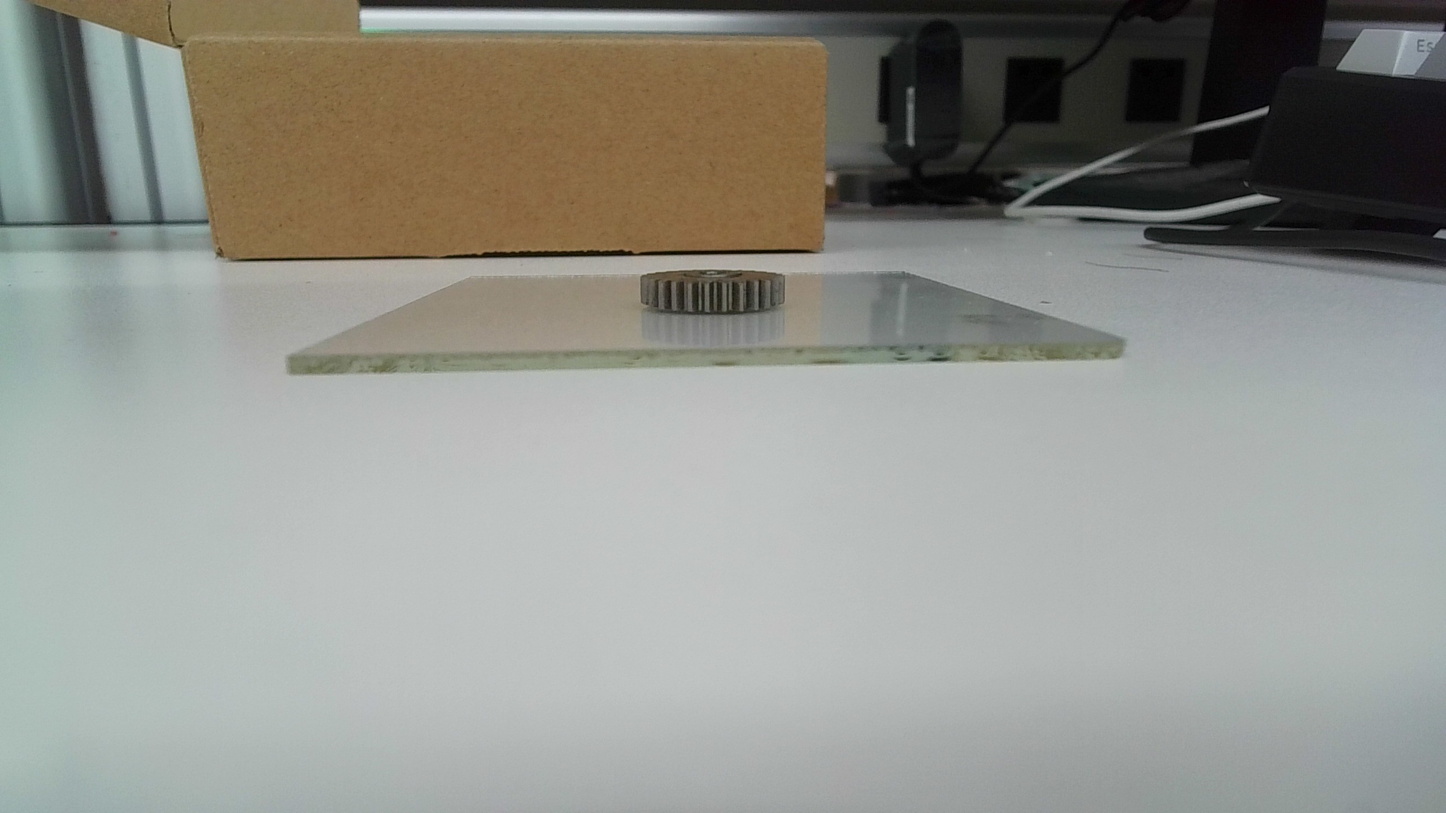gear: (638, 268, 789, 318)
